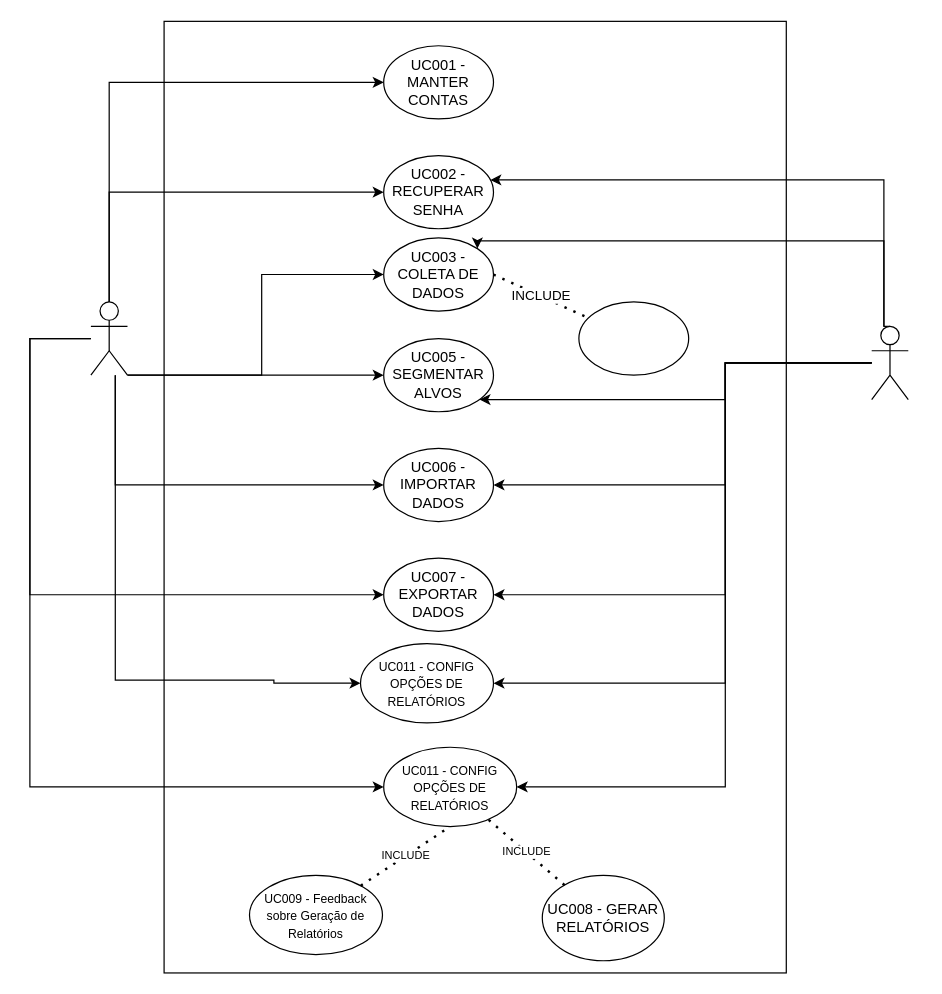
The diagram is 942 pixels wide and 994 high, and some of its shapes have lost their labels. Each missing label, with the centre of its shape:
"ADMIN" belongs at [108,338].
"UC004 - INCLUIR FILTROS" belongs at [633,338].
"USER CLIENTE" belongs at [889,362].
